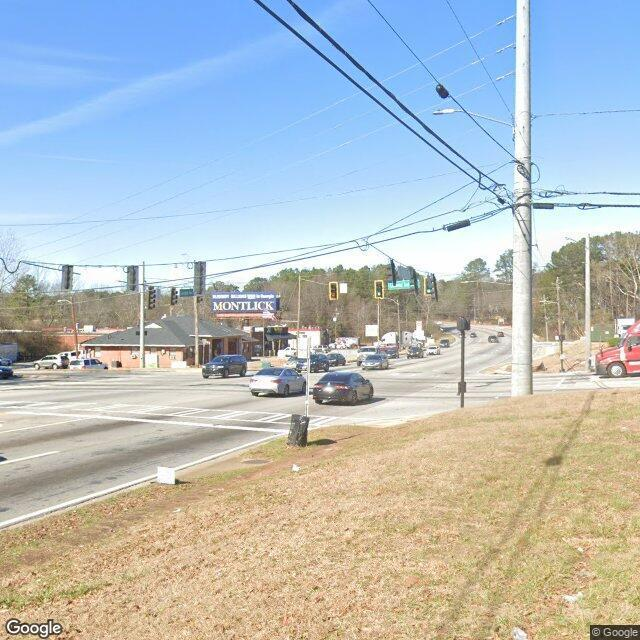trash_can: (290, 412, 308, 447)
